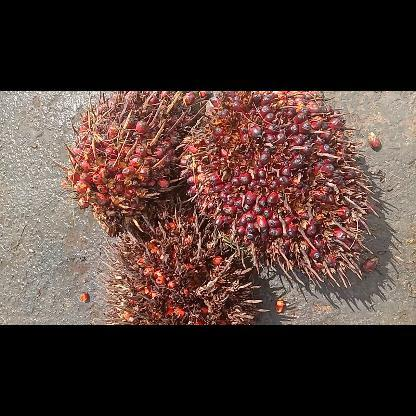TBS masak: (181, 91, 379, 287), (52, 90, 200, 235)
Terlalu masak: (94, 207, 266, 324)
